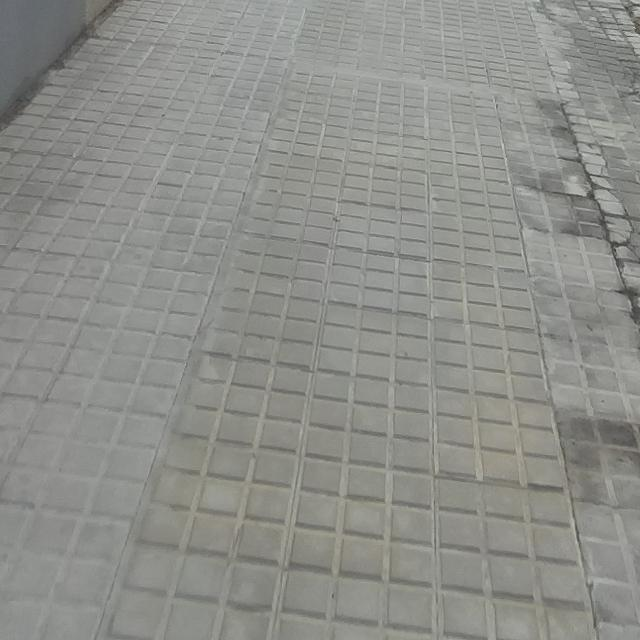calcada_quebrada: (611, 204, 636, 247)
